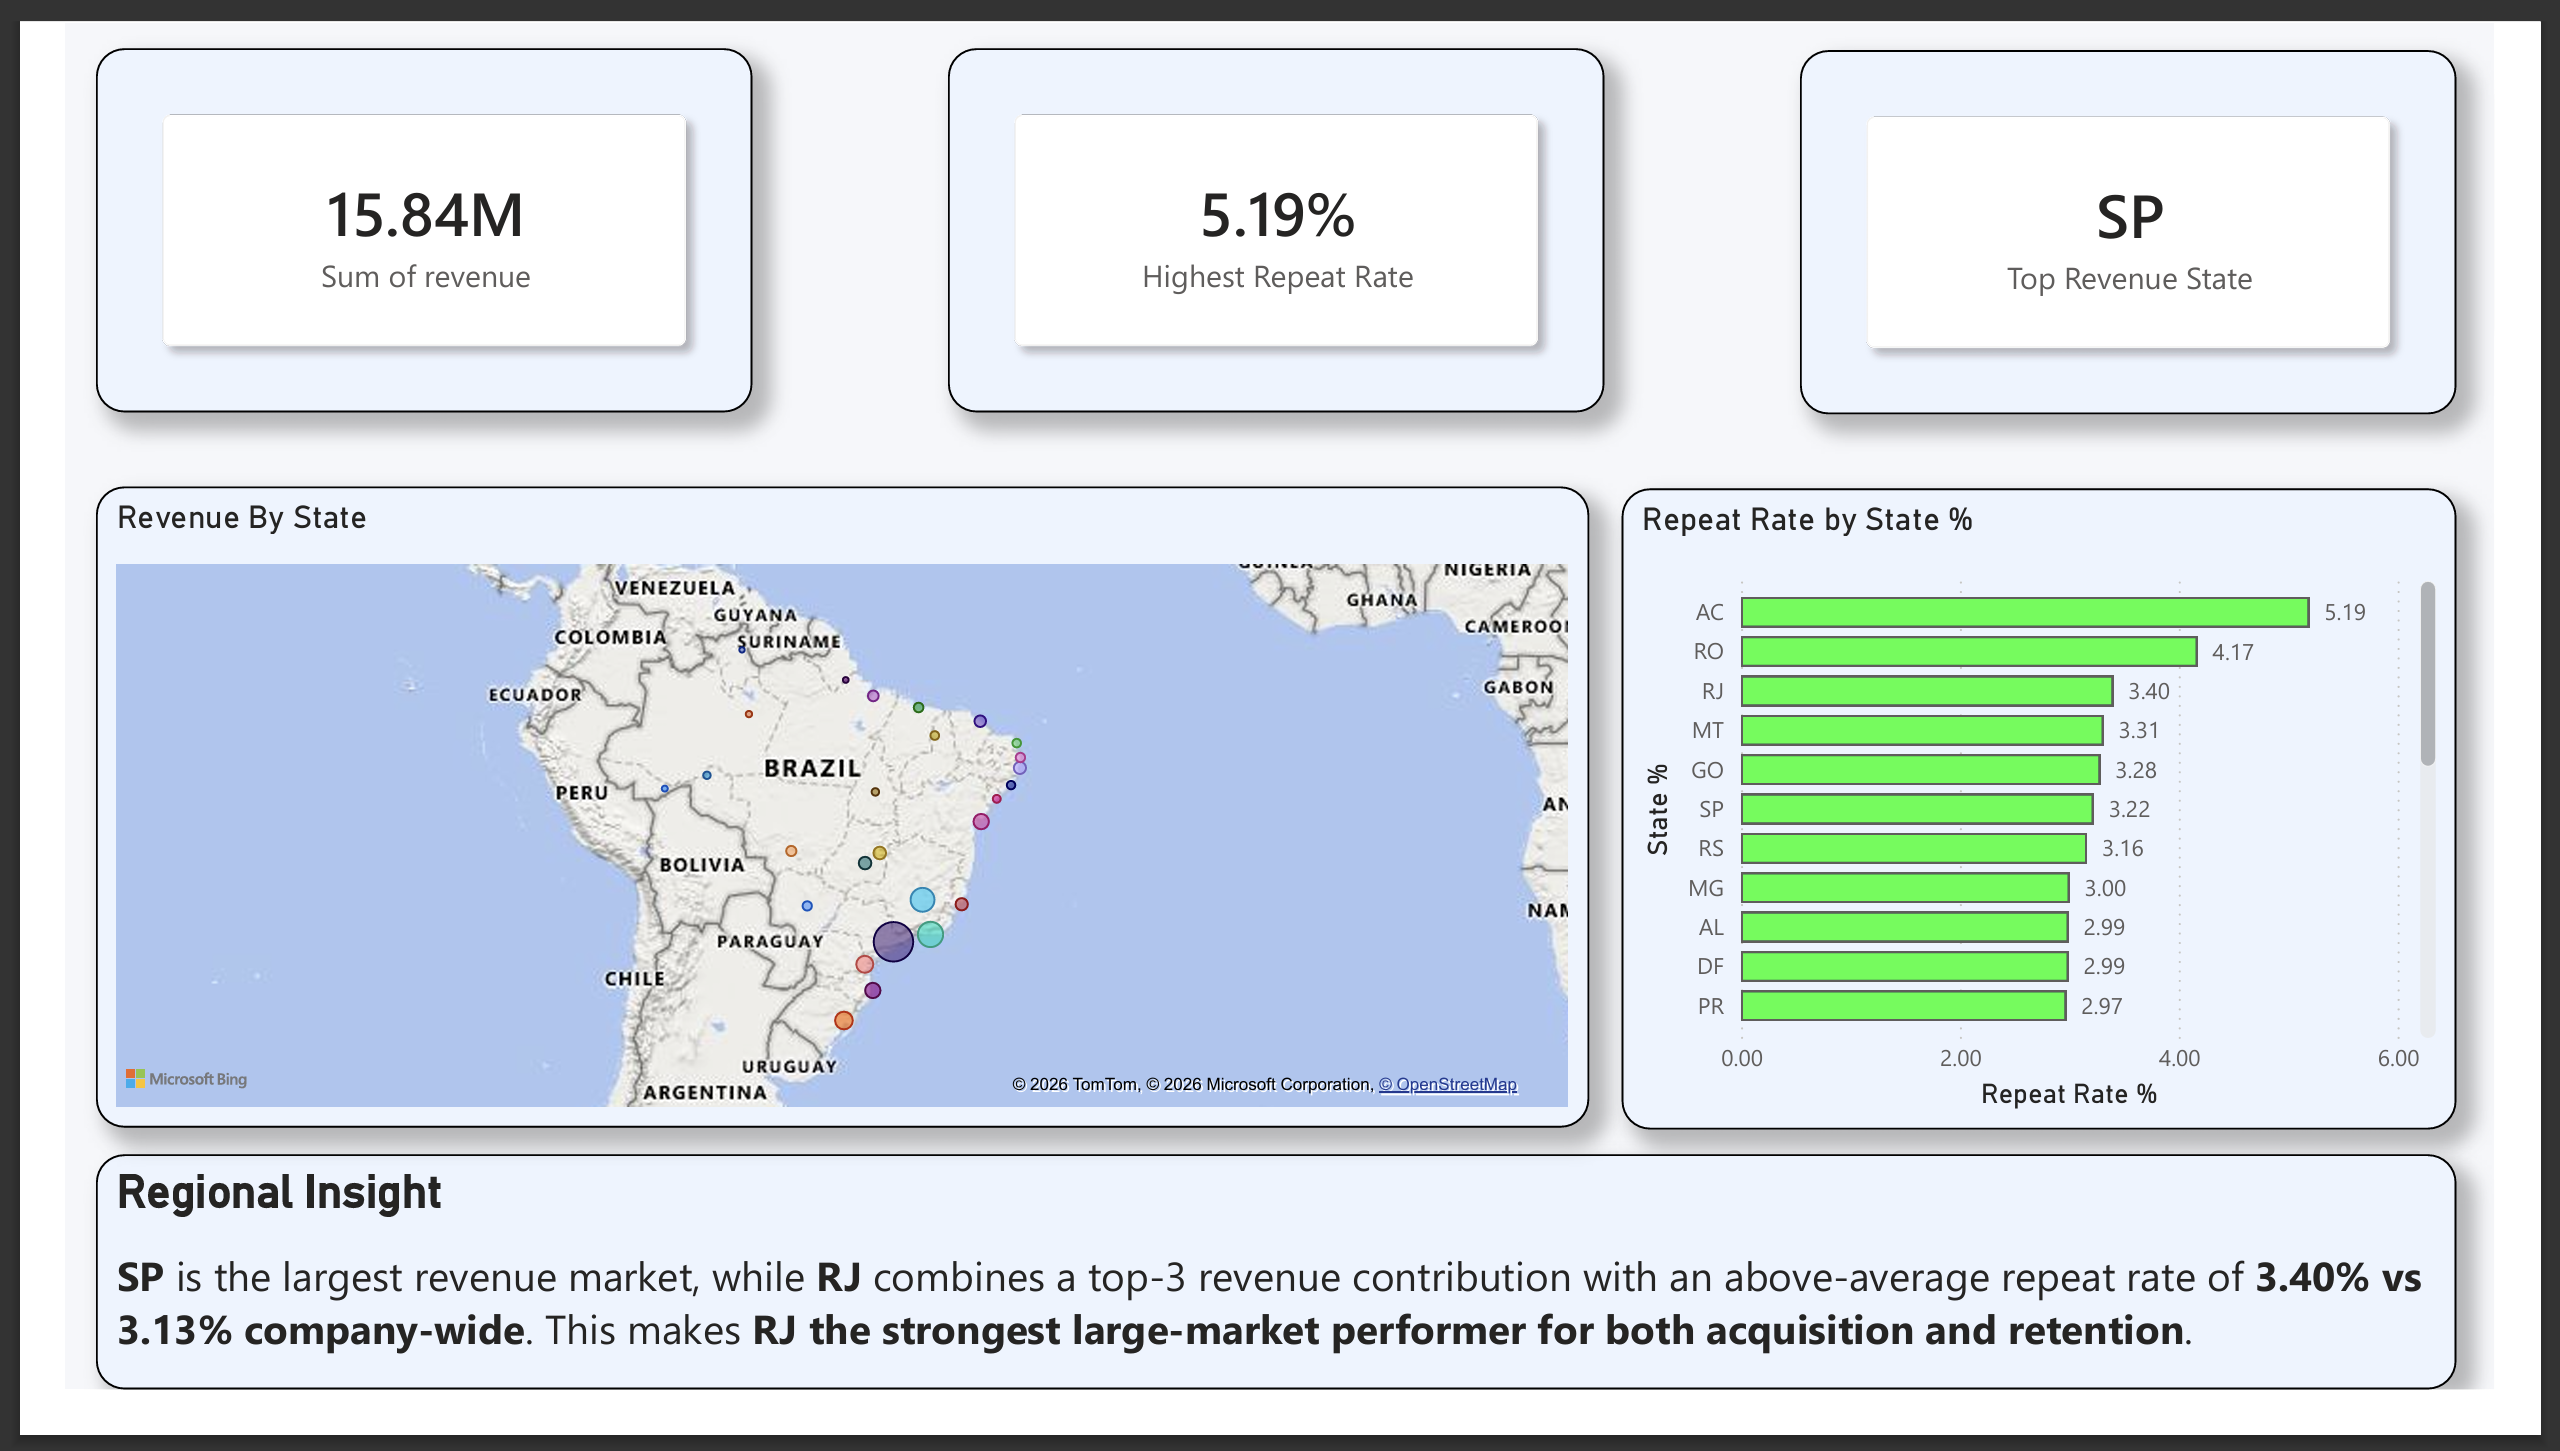

What the dashboard file says about the page in this screenshot:
{"tool":"powerbi","page":{"name":"Regional Performance","canvas":[1280,720],"ordinal":1},"visuals":[{"type":"clusteredBarChart","fields":{"Category":["regional_performance.customer_state"],"Y":["Sum(regional_performance.repeat_rate_pct)"]},"box":[819.7,245.4,440.5,337.9],"z":0},{"type":"textbox","title":"Regional Insight","box":[16.1,596.4,1244.1,123.7],"z":1000},{"type":"map","title":"Revenue By State","fields":{"Category":["regional_performance.State Full"],"Size":["Sum(regional_performance.revenue)"],"Series":["regional_performance.customer_state"]},"box":[16.1,244.4,786.5,337.9],"z":2000},{"type":"cardVisual","fields":{"Data":["Sum(regional_performance.revenue)"]},"box":[16.1,13.1,346,192.1],"z":3000},{"type":"cardVisual","fields":{"Data":["regional_performance.Top Revenue State"]},"box":[914.2,14.1,346,192.1],"z":4000},{"type":"cardVisual","fields":{"Data":["regional_performance.Best Repeat Rate"]},"box":[465.2,13.1,346,192.1],"z":5000}]}

Visuals, with their boxes in screenshot pixels (x1, y1, x2, y2), scaled from the page's 1280x720 canvas onto the 2560x1451 screenshot:
clusteredBarChart - regional_performance.customer_state x Sum(regional_performance.repeat_rate_pct): [x1=1639, y1=495, x2=2520, y2=1176]
"Regional Insight" textbox: [x1=32, y1=1202, x2=2520, y2=1450]
"Revenue By State" map: [x1=32, y1=493, x2=1605, y2=1173]
cardVisual - Sum(regional_performance.revenue): [x1=32, y1=26, x2=724, y2=414]
cardVisual - regional_performance.Top Revenue State: [x1=1828, y1=28, x2=2520, y2=416]
cardVisual - regional_performance.Best Repeat Rate: [x1=930, y1=26, x2=1622, y2=414]
